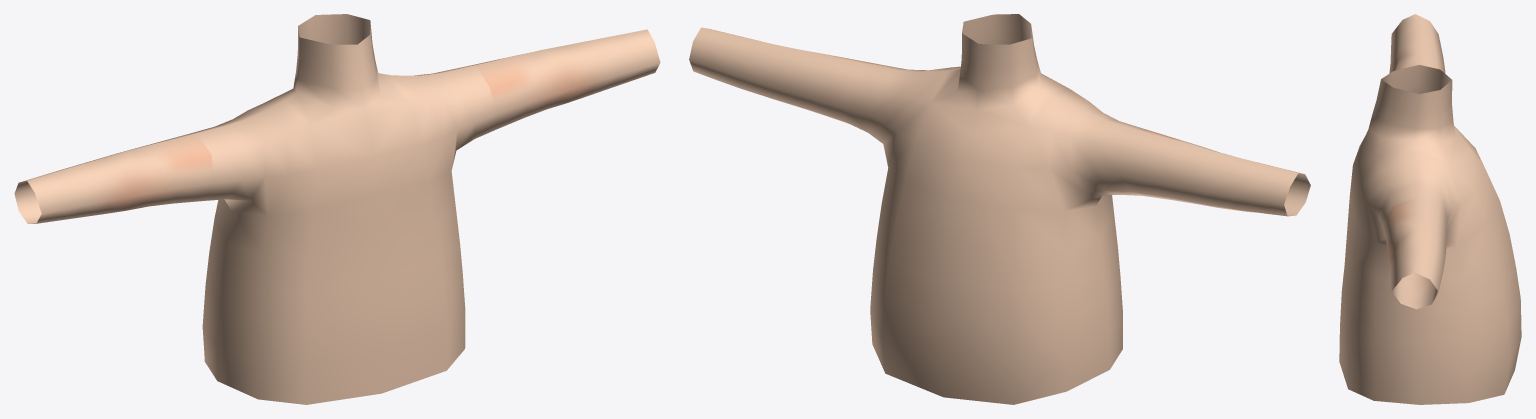
The model's file is Body_Top_2.fbx.
3 views of the same model, side by side, from view 1: azimuth 30°, elevation 25°; view 2: azimuth 150°, elevation 25°; view 3: azimuth 270°, elevation 25° (orthographic). The views are drawn at different scales.
Parts seen in each view (by area): view 1: Body_Top_2; view 2: Body_Top_2; view 3: Body_Top_2.
Part boxes in pixels (left/top/right/bottom): Body_Top_2: left=14, top=14, right=660, bottom=404; Body_Top_2: left=689, top=14, right=1310, bottom=404; Body_Top_2: left=1339, top=14, right=1521, bottom=404.
Size of the model in its own units: 95.86 by 50.32 by 28.57.
